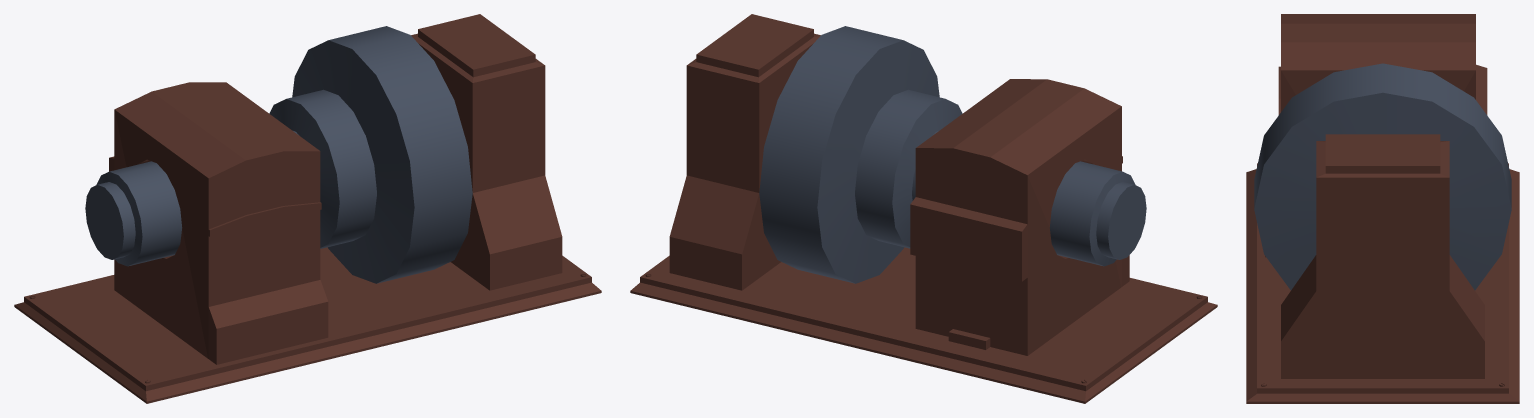
Rendered from generator.fbx.
The picture shows the model from 3 angles, left to right: view 1: azimuth 30°, elevation 25°; view 2: azimuth 150°, elevation 25°; view 3: azimuth 270°, elevation 25°; orthographic projection. The views are drawn at different scales.
Visible parts, largest first — view 1: Cylinder; view 2: Cylinder; view 3: Cylinder.
Part boxes in pixels (x1,y1,x2,y2): Cylinder: [14, 14, 601, 403]; Cylinder: [630, 14, 1217, 403]; Cylinder: [1246, 14, 1519, 403].
Bounding box in the file's own units: 8.14 × 4.11 × 4.1.
